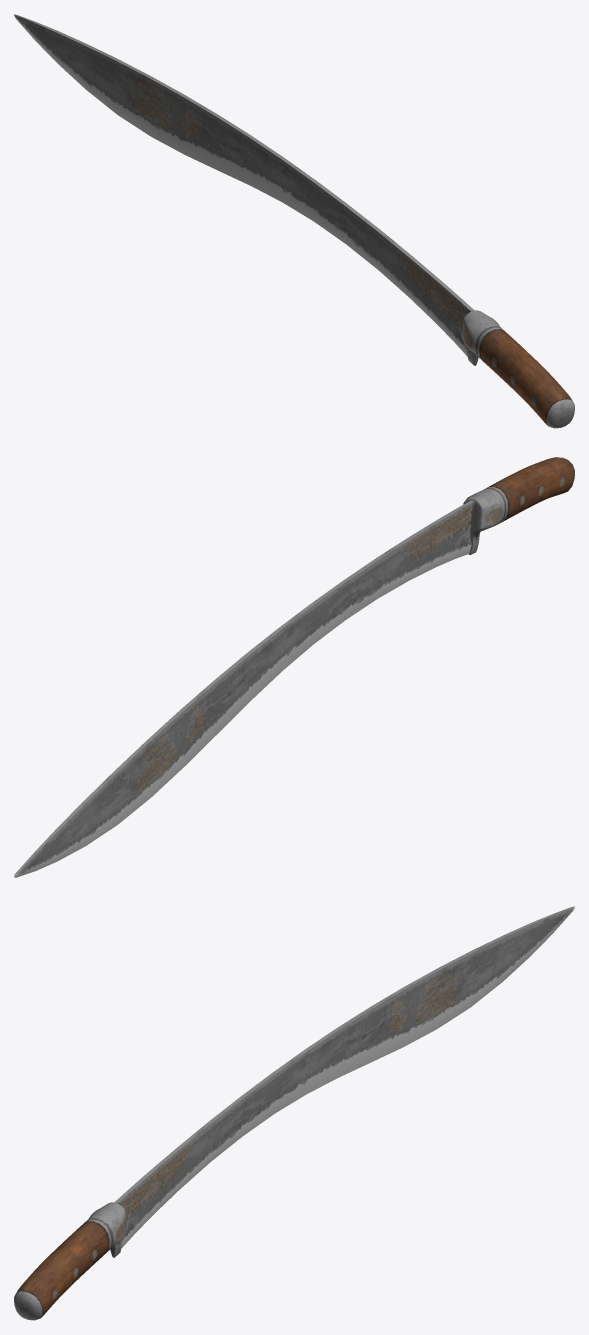
Rendered from Arab_Swords_03.fbx.
The picture shows the model from 3 angles, top to bottom: view 1: azimuth 30°, elevation 25°; view 2: azimuth 150°, elevation 25°; view 3: azimuth 330°, elevation 25°; orthographic projection.
Parts seen in each view (by area): view 1: Arab_Swords_03_LOD0; view 2: Arab_Swords_03_LOD0; view 3: Arab_Swords_03_LOD0.
Part boxes in pixels (x1,y1,x2,y2): Arab_Swords_03_LOD0: (14,14,574,428); Arab_Swords_03_LOD0: (14,457,574,877); Arab_Swords_03_LOD0: (14,906,574,1320).
Size of what is drawn, in the model's own units: 2.15 by 5.41 by 69.27.
